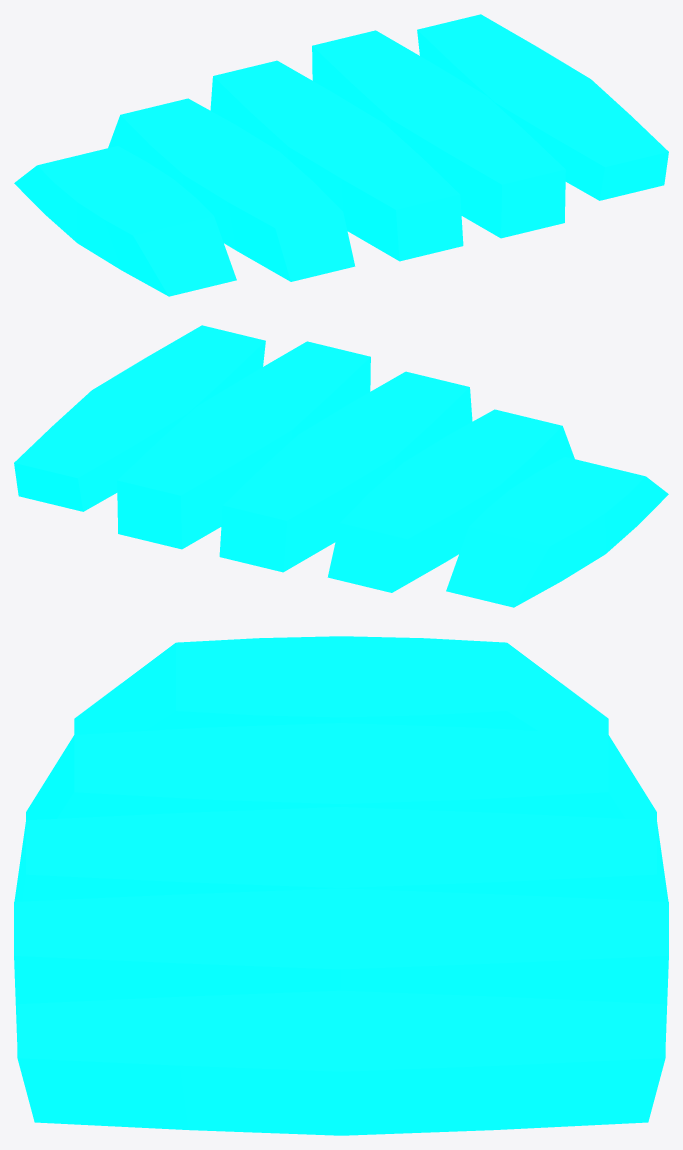
Rendered from MartianFish_FryingPan_NotReady.fbx.
The picture shows the model from 3 angles, top to bottom: view 1: azimuth 30°, elevation 25°; view 2: azimuth 150°, elevation 25°; view 3: azimuth 270°, elevation 25°; orthographic projection. The views are drawn at different scales.
Parts seen in each view (by area): view 1: MartianFish_FryingPan_NotReady; view 2: MartianFish_FryingPan_NotReady; view 3: MartianFish_FryingPan_NotReady.
Part boxes in pixels (x1,y1,x2,y2): MartianFish_FryingPan_NotReady: (14, 14, 668, 296); MartianFish_FryingPan_NotReady: (14, 325, 668, 607); MartianFish_FryingPan_NotReady: (14, 636, 668, 1135).
Size of the model in its own units: 38.36 by 24.58 by 3.89.
